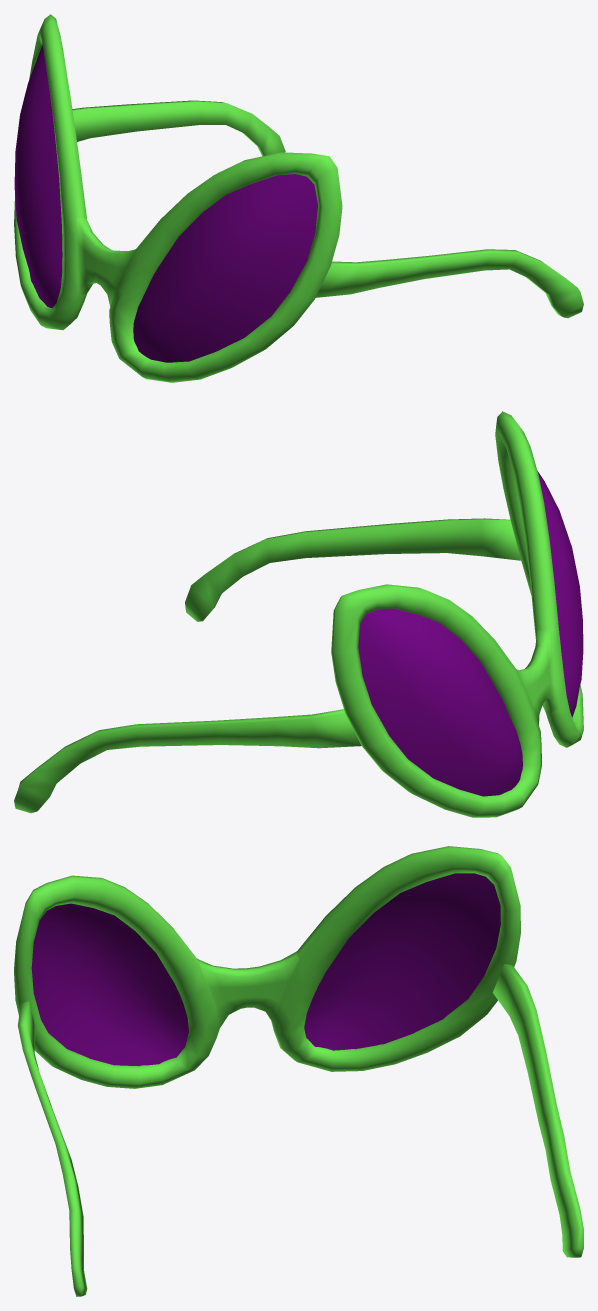
Rendered from Glasses(1).fbx.
The picture shows the model from 3 angles, top to bottom: view 1: azimuth 30°, elevation 25°; view 2: azimuth 150°, elevation 25°; view 3: azimuth 270°, elevation 25°; orthographic projection. The views are drawn at different scales.
Visible parts, largest first — view 1: Glasses; view 2: Glasses; view 3: Glasses.
Part boxes in pixels (x1,y1,x2,y2): Glasses: (14, 14, 583, 382); Glasses: (14, 411, 583, 817); Glasses: (14, 846, 583, 1296).
Bounding box in the file's own units: 38.85 × 21.06 × 40.79.
